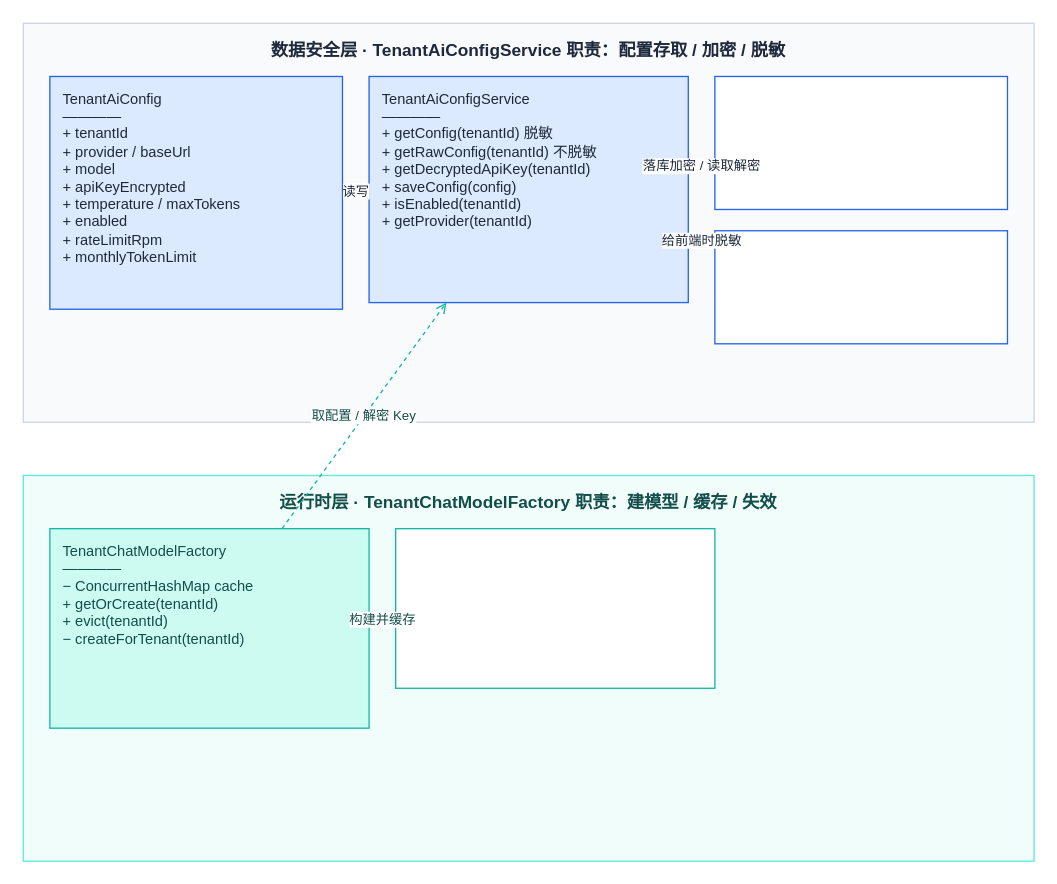
The diagram is 1057 pixels wide and 884 high, and some of its shapes have lost their labels. Each missing label, with the centre of its shape:
"AesEncryptor ———— + encrypt(plain) + decrypt(cipher)" belongs at (x=860, y=142).
"OpenAiChatModel 《Spring AI》 ———— baseUrl + apiKey + model DeepSeek / GLM / Qwen" belongs at (x=554, y=607).
"SensitiveMasker ———— + mask(apiKey) wx12****cd" belongs at (x=860, y=286).
